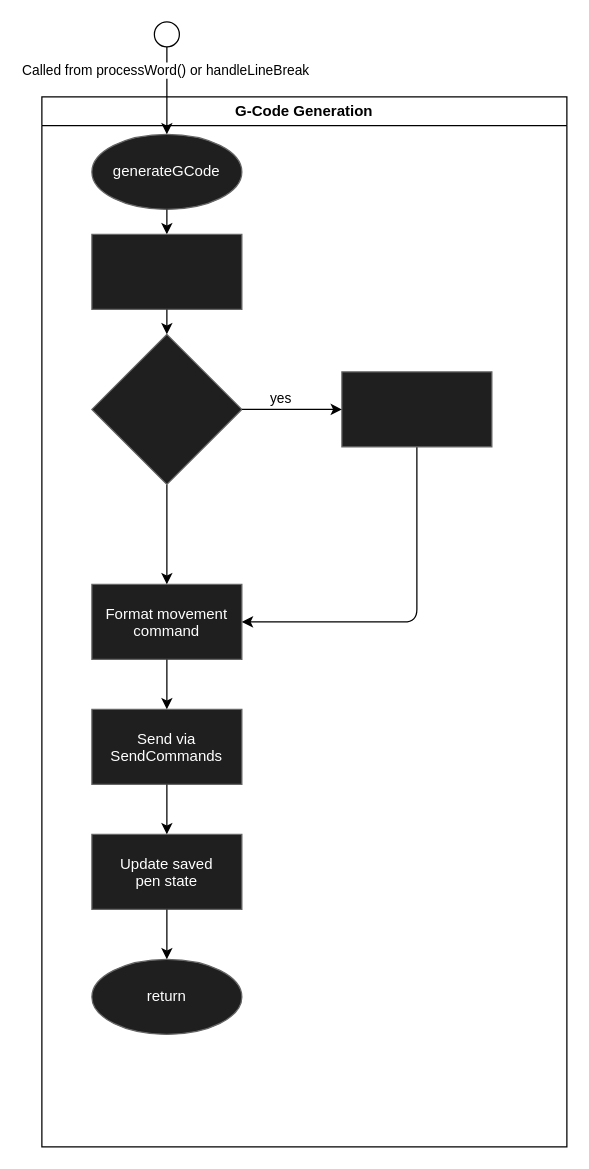
The diagram is 589 pixels wide and 1169 high, and some of its shapes have lost their labels. The shapes that lost their labels are listed below. From the top down, each one's centre as x and y in pixels, then its label:
At (166,271): "Check current pen state".
At (166,408): "Pen state changed?".
At (416,409): "Generate pen command".
